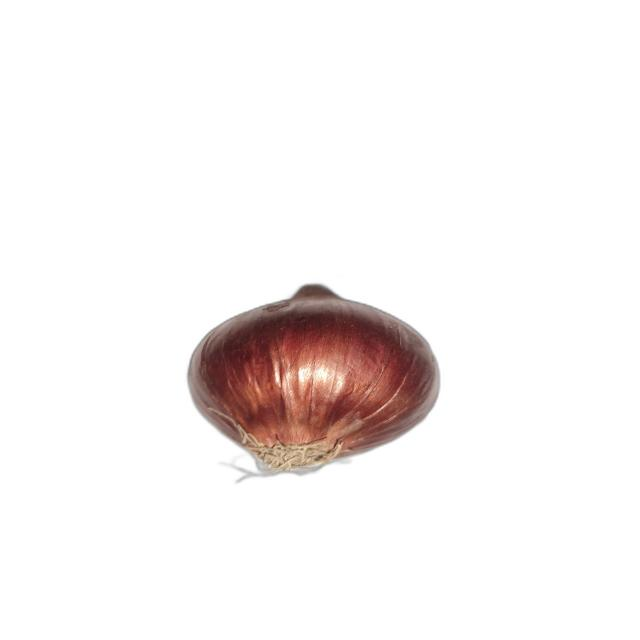onion: (187, 282, 442, 474)
